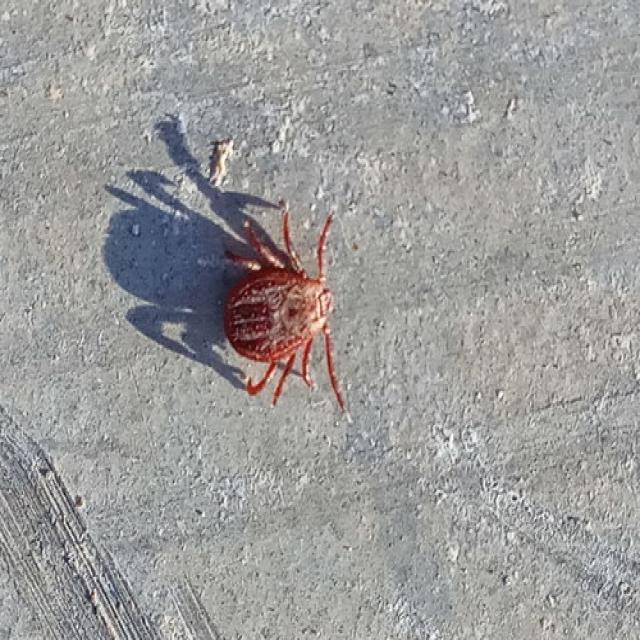Dermacentor Reticulatus-M: (224, 204, 345, 413)
